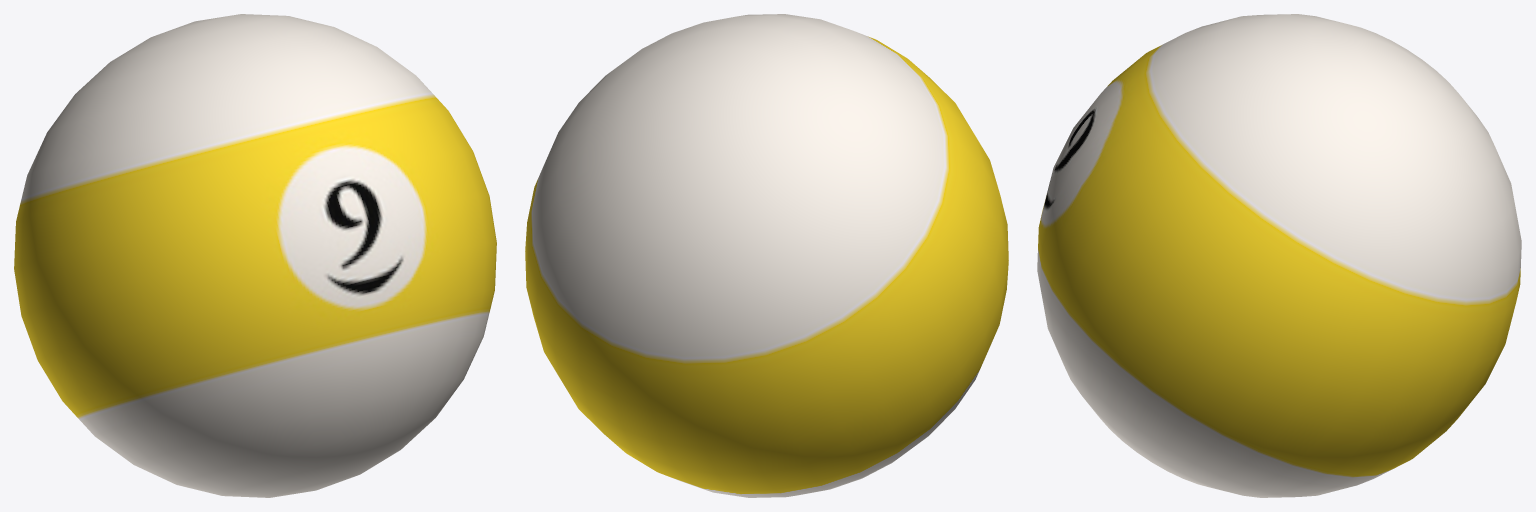
The model's file is semi_yellow.glb.
The picture shows the model from 3 angles, left to right: view 1: azimuth 30°, elevation 25°; view 2: azimuth 150°, elevation 25°; view 3: azimuth 270°, elevation 25°; orthographic projection.
Visible parts, largest first — view 1: Ball9_15 - Default_0; view 2: Ball9_15 - Default_0; view 3: Ball9_15 - Default_0.
Boxes of the visible parts, bbox=[...] form: Ball9_15 - Default_0: bbox=[14, 14, 496, 497]; Ball9_15 - Default_0: bbox=[525, 14, 1008, 497]; Ball9_15 - Default_0: bbox=[1037, 14, 1521, 497].
Bounding box in the file's own units: 37.86 × 37.78 × 37.78.
1 material, 1 textured.
